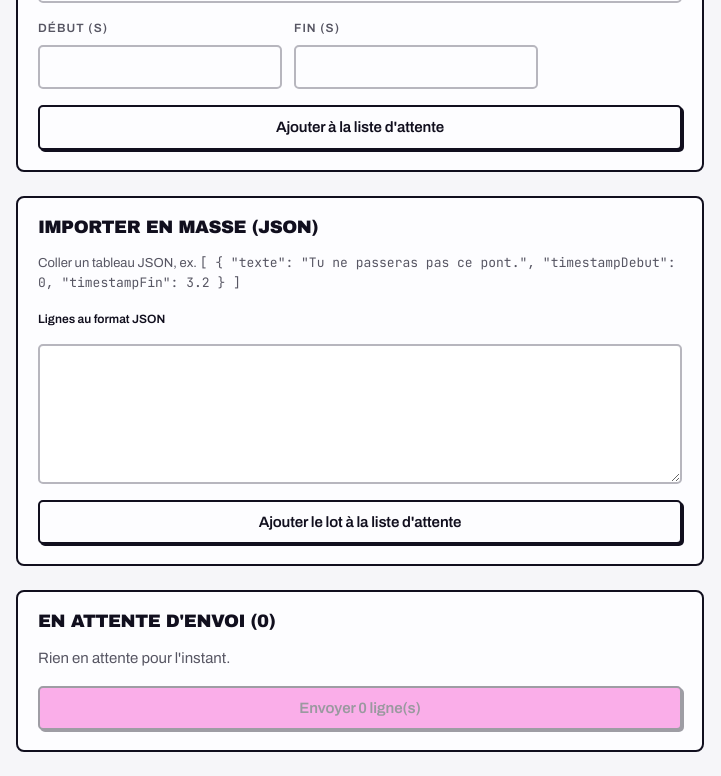
Test: AdminScriptEditorClient › rejette un import en masse dont le JSON est invalide
The image size is (721, 776).
(page scrolled)
Type "pas du json" into the text box labelled "Lignes au format JSON".
click(360, 414); type("pas du json")  # box [38,344,682,484]
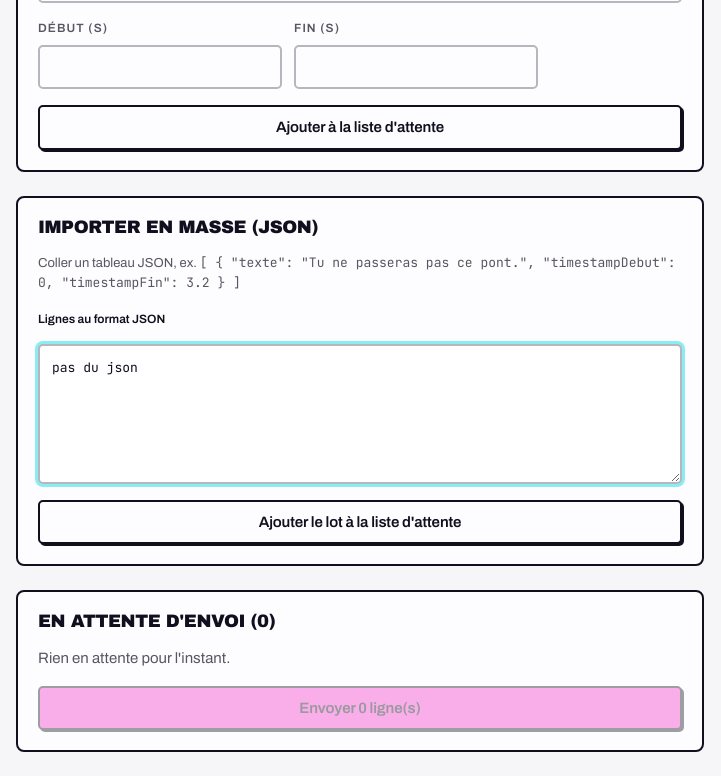
Click the button "Ajouter le lot à la liste d'attente".
click(360, 522)  # box [38,500,682,544]
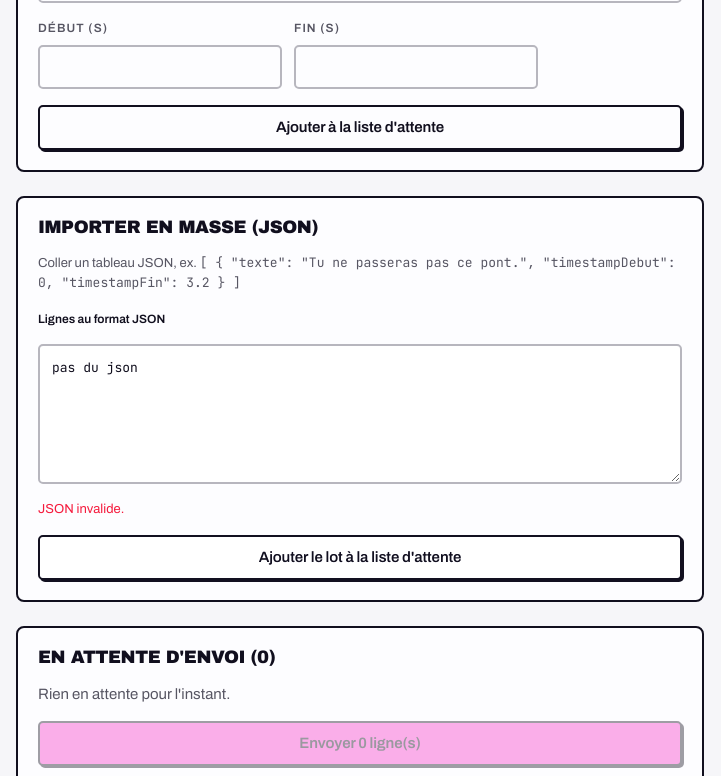
Result: the text "JSON invalide." is shown at [38,502,124,516]
